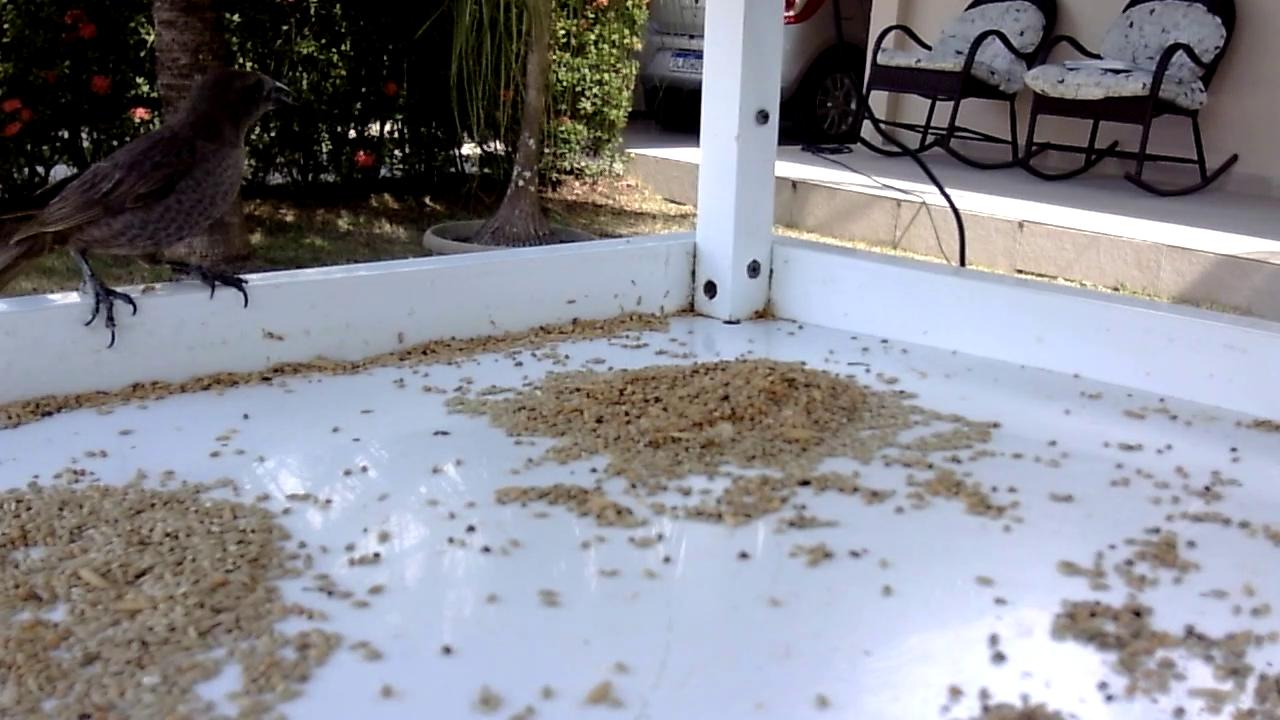chupim: (1, 68, 293, 352)
